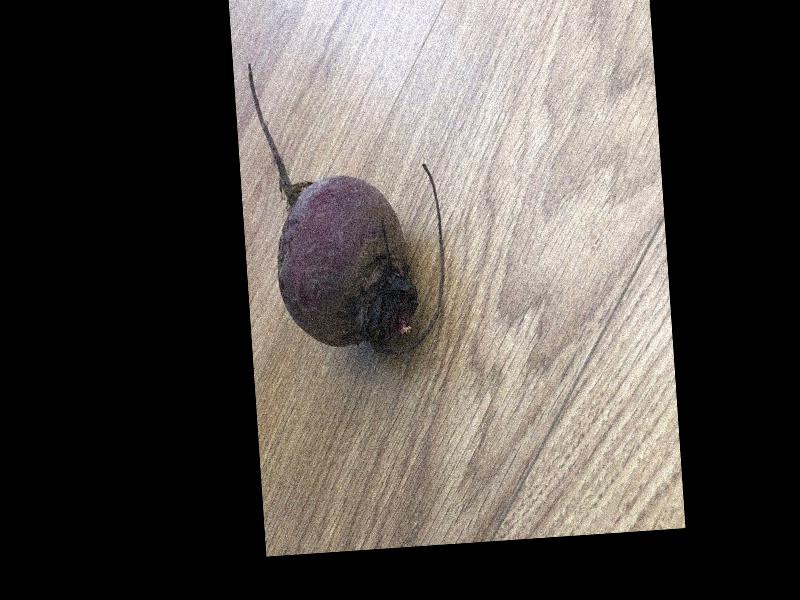Beet: (247, 50, 449, 360)
